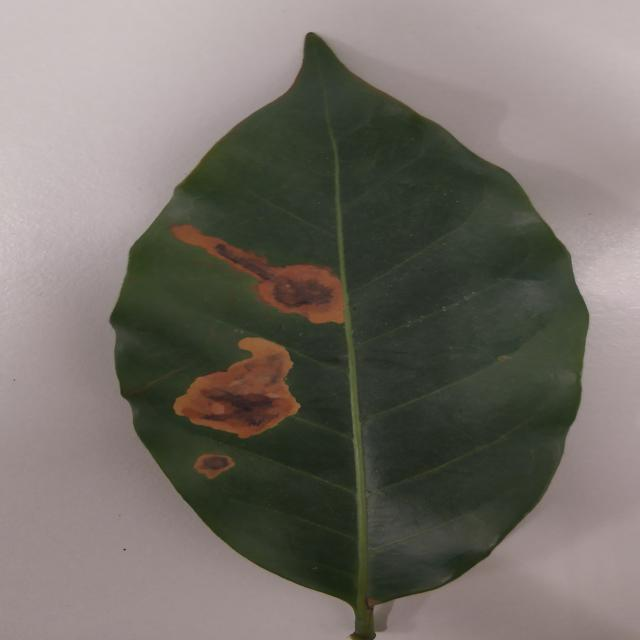Plaga-Minador: (108, 33, 591, 640)
